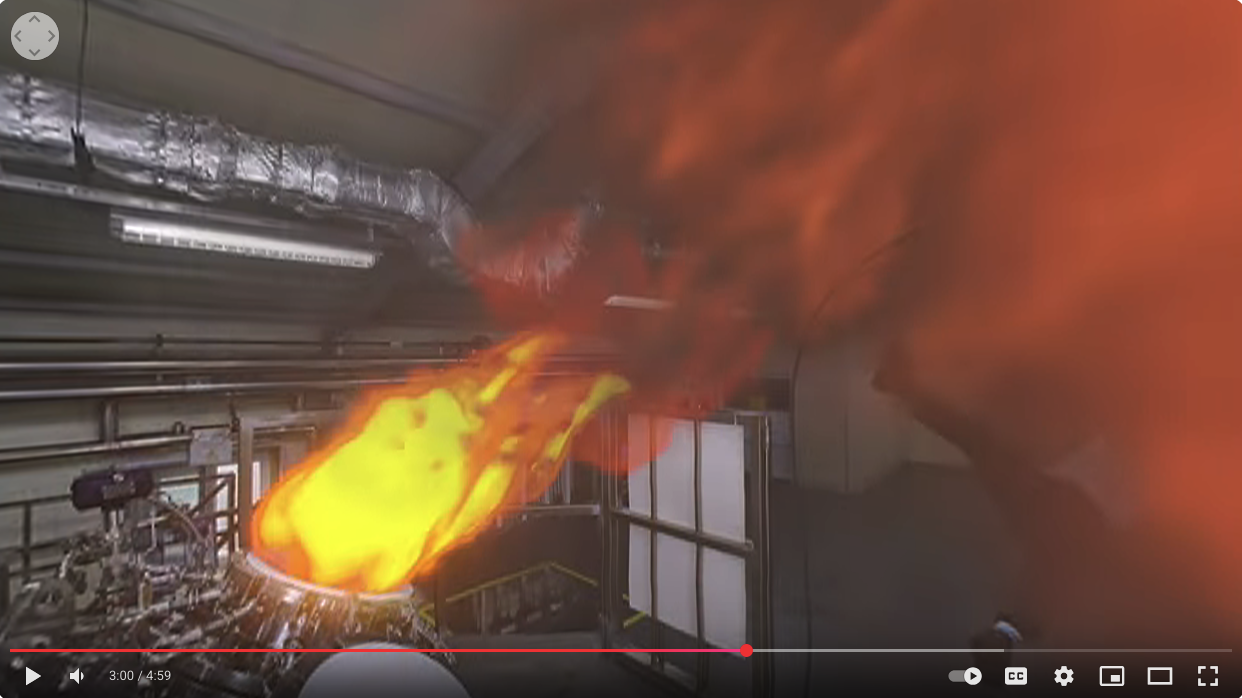fire: (186, 105, 692, 633)
